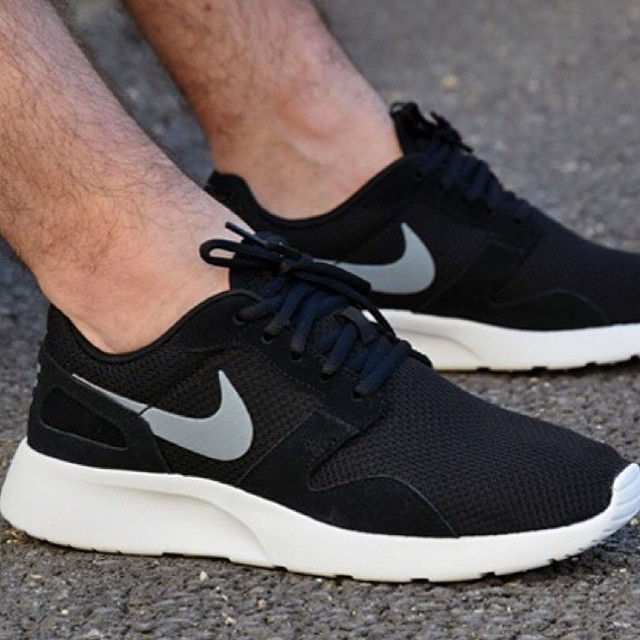sneaker: (2, 208, 640, 603), (168, 72, 640, 414)
